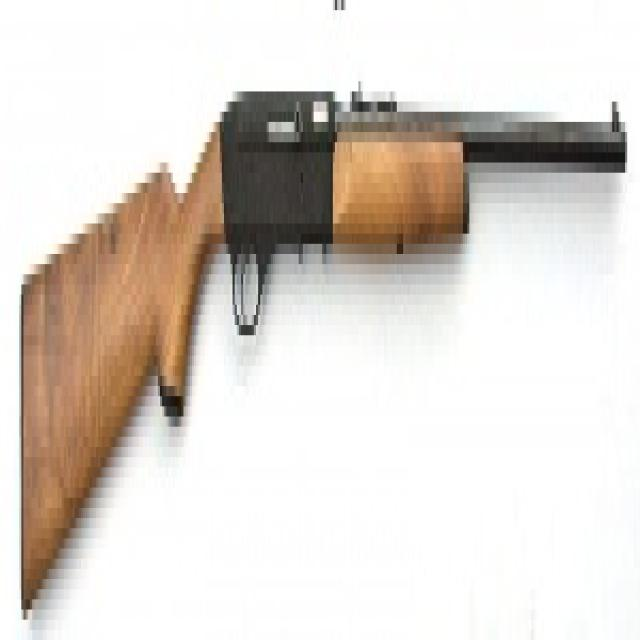rifle: (12, 66, 638, 622)
